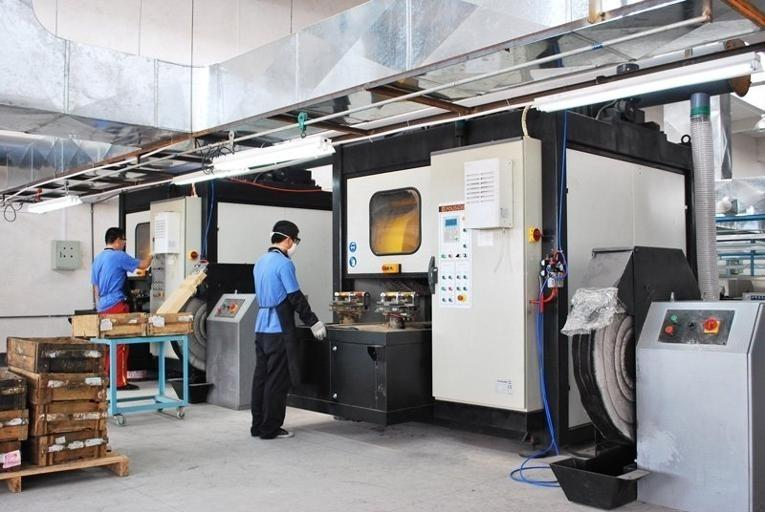luva: (311, 314, 330, 344)
pessoa: (235, 212, 320, 448), (91, 220, 153, 395)
